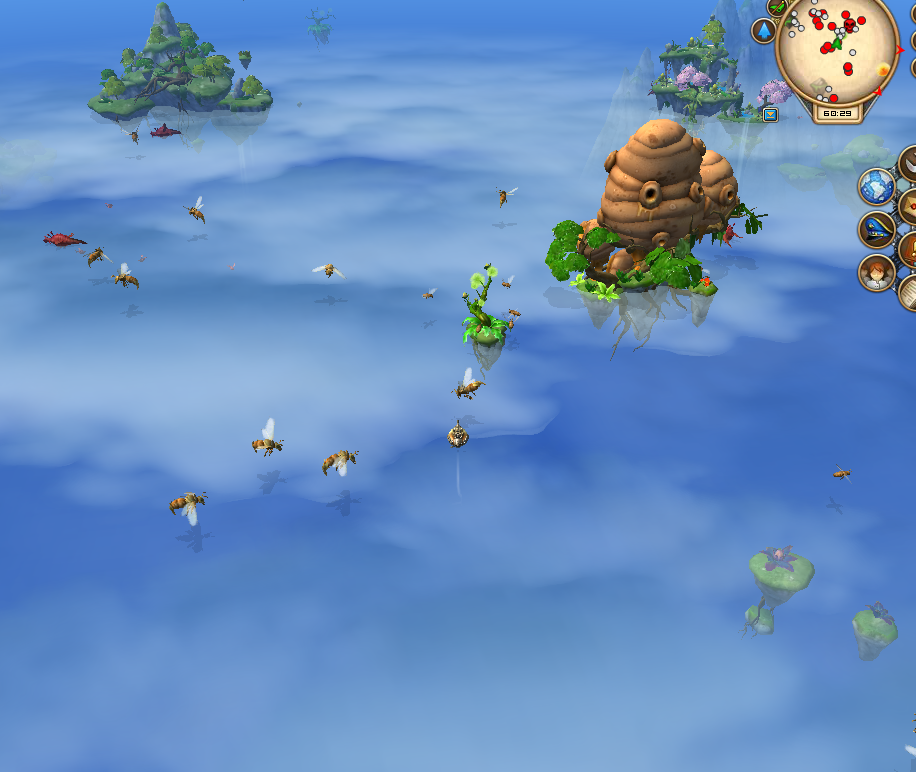dandelion-full: (457, 264, 514, 372), (303, 3, 340, 50)
